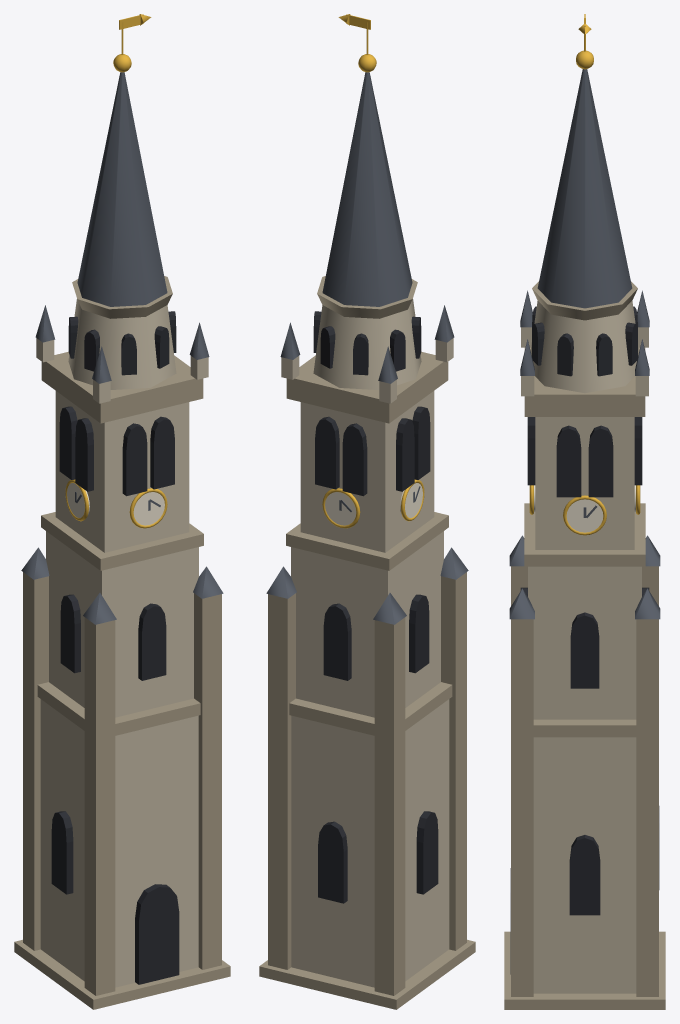
The model's file is martinitoren.glb.
3 renders of one model, left to right at view 1: azimuth 30°, elevation 25°; view 2: azimuth 150°, elevation 25°; view 3: azimuth 270°, elevation 25°, orthographic.
Visible parts, largest first — view 1: toren_onder, toren_midden, steunbeer_2, spits, toren_boven, steunbeer_0, steunbeer_3, lantaarn, balustrade, portaal, raam_0_0 (×2), plint (+14 smaller); view 2: toren_onder, toren_midden, steunbeer_3, spits, toren_boven, steunbeer_1, steunbeer_2, lantaarn, balustrade, plint, raam_1_0 (×2), lijst_2 (+14 smaller); view 3: toren_onder, toren_midden, spits, toren_boven, steunbeer_0, steunbeer_1, lantaarn, raam_2_0 (×2), plint, balustrade, lijst_2, raam_onder_1 (+15 smaller).
Boxes of the visible parts, box(x1,y1,x2,y2) form: toren_onder: box(40, 699, 198, 987); toren_midden: box(46, 531, 198, 717); steunbeer_2: box(84, 617, 115, 995); spits: box(77, 72, 167, 306); toren_boven: box(55, 391, 189, 552); steunbeer_0: box(194, 593, 221, 969); steunbeer_3: box(23, 572, 48, 950); lantaarn: box(68, 299, 176, 389); balustrade: box(41, 351, 203, 423); portaal: box(135, 884, 179, 984); raam_0_0 (×2): box(122, 423, 166, 680); plint: box(14, 939, 230, 1009); toren_onder: box(291, 699, 449, 987); toren_midden: box(291, 531, 443, 717); steunbeer_3: box(374, 617, 405, 995); spits: box(322, 72, 412, 306); toren_boven: box(300, 391, 434, 552); steunbeer_1: box(268, 593, 295, 969); steunbeer_2: box(441, 572, 466, 950); lantaarn: box(313, 299, 421, 389); balustrade: box(286, 351, 448, 423); plint: box(259, 939, 475, 1009); raam_1_0 (×2): box(315, 416, 351, 680); lijst_2: box(286, 512, 448, 570); toren_onder: box(533, 737, 636, 993); toren_midden: box(528, 566, 641, 719); spits: box(537, 69, 632, 308); toren_boven: box(535, 417, 634, 549); steunbeer_0: box(511, 619, 533, 996); steunbeer_1: box(636, 619, 658, 996); lantaarn: box(530, 301, 639, 393); raam_2_0 (×2): box(570, 425, 613, 688); plint: box(504, 931, 665, 1009); balustrade: box(524, 347, 645, 416); lijst_2: box(524, 503, 645, 566); raam_onder_1: box(569, 835, 600, 915).
Bounding box in the file's own units: 17 × 112 × 17.
